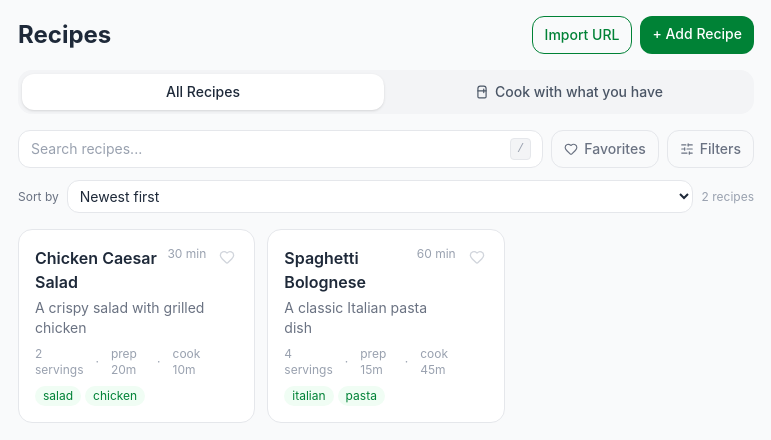
Test: RecipesPage › search filtering › filters recipes by description
Check: the heading "Spaghetti Bolognese" is shown, box [284,248,366,292]
Type "Italian pasta" into the search field with placeholder "Search recipes...".
click(281, 149); type("Italian pasta")  # box [18,130,543,168]
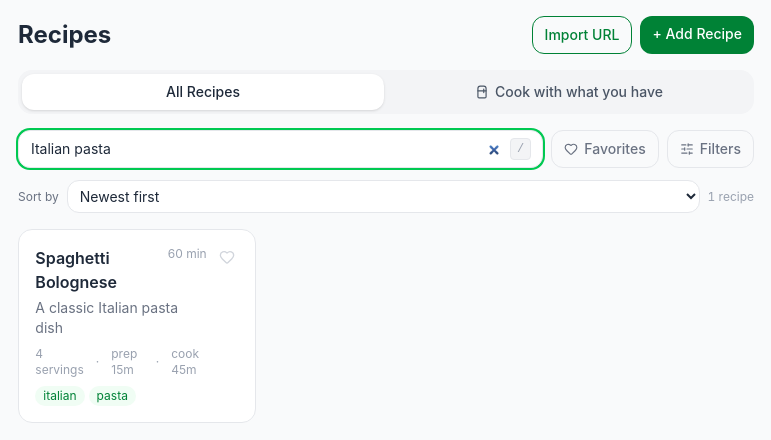
Check: the heading "Spaghetti Bolognese" is shown, box [35,248,117,292]
Check: the link "Chicken Caesar Salad" is gone
